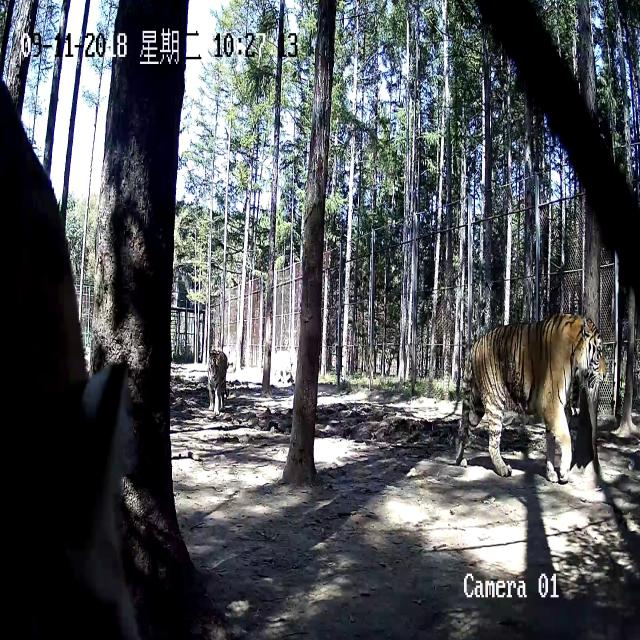Tiger: (458, 309, 603, 496), (203, 343, 237, 423)
